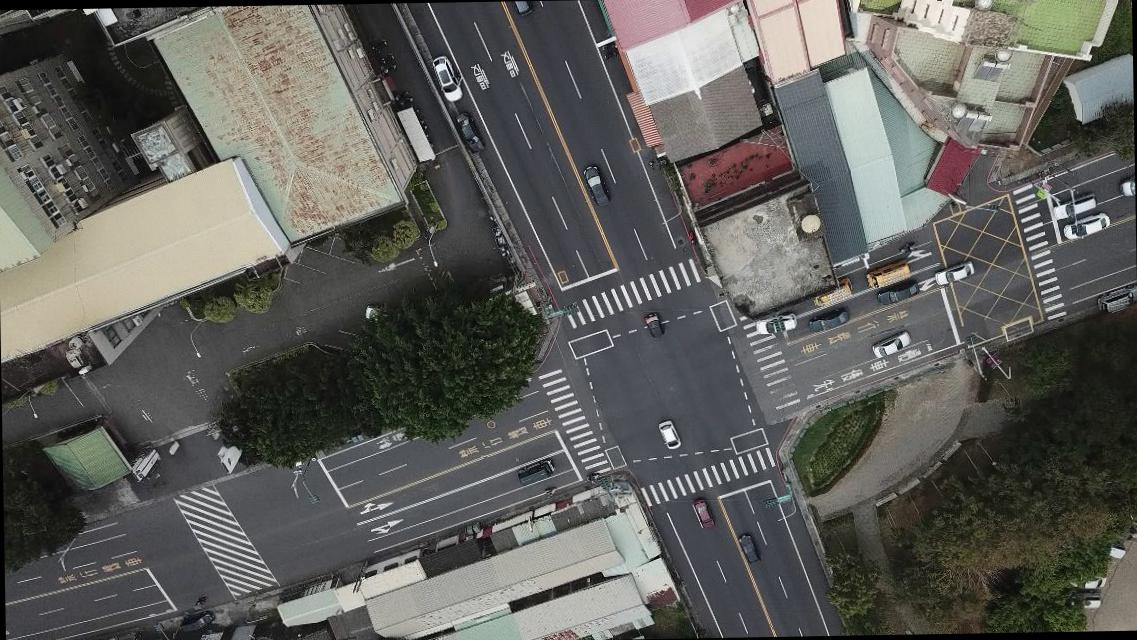vehicle: (431, 52, 462, 106), (452, 109, 485, 159), (865, 258, 914, 288), (809, 278, 854, 310), (875, 278, 920, 308), (1064, 212, 1112, 240), (1051, 192, 1098, 220), (582, 164, 611, 207), (934, 258, 975, 287), (809, 305, 849, 334), (870, 330, 912, 357), (516, 459, 556, 486), (755, 314, 799, 336), (690, 497, 717, 532), (738, 532, 762, 568), (658, 418, 684, 450), (643, 310, 668, 340)
